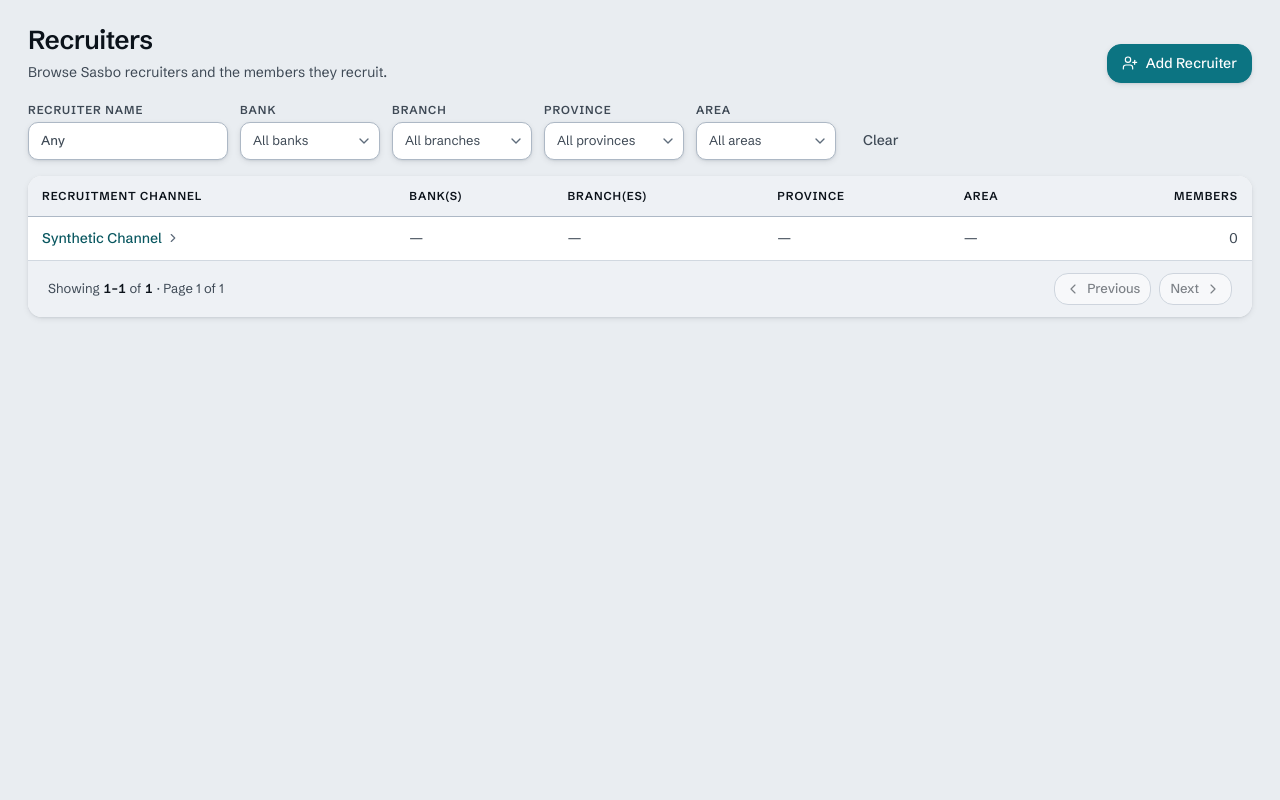
Test: Recruiters › ③ a count of zero › reads 0 -- and a field with nothing in it still reads as a dash
The image size is (1280, 800).
Click the button with aria-label "Synthetic Channel — show the members recruited" at {"x": 111, "y": 238}, box [42,228,180,248]
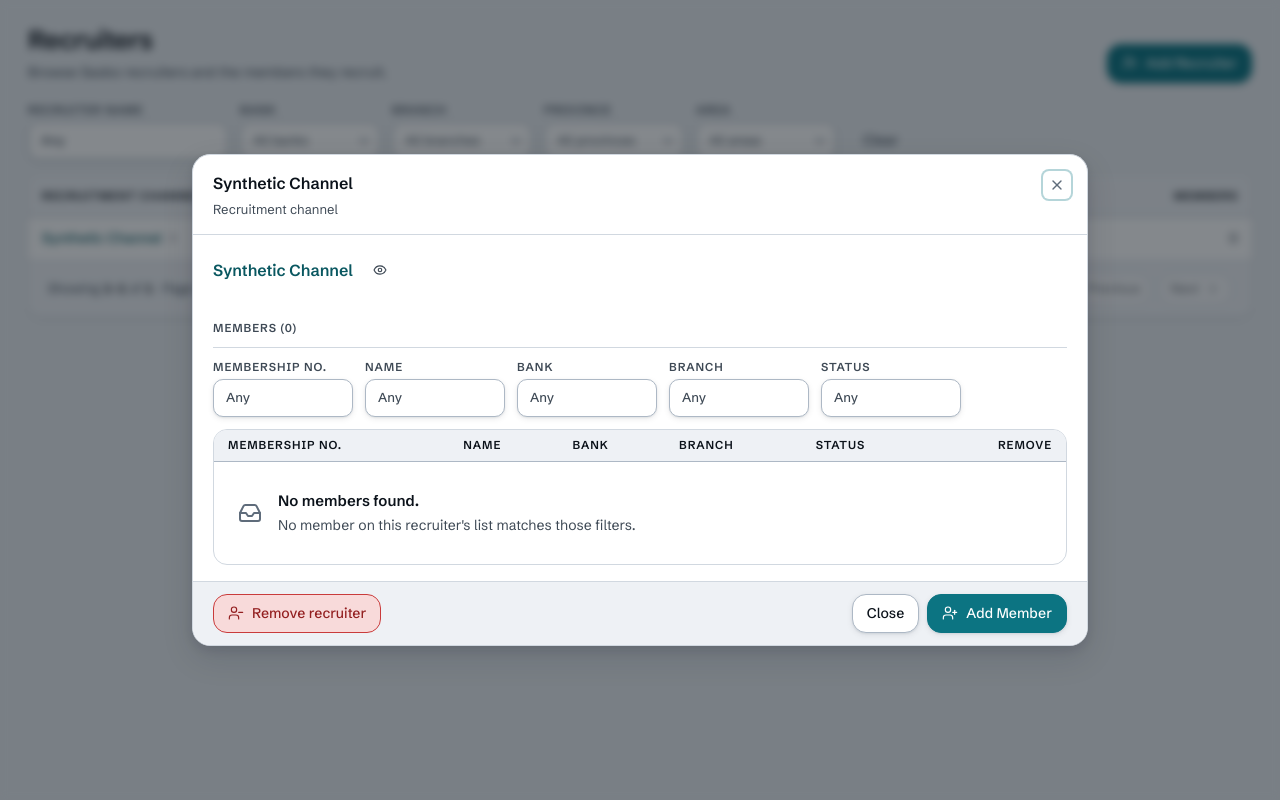
Click the button named "View recruiter details" at {"x": 380, "y": 270}, box [361,252,399,290]
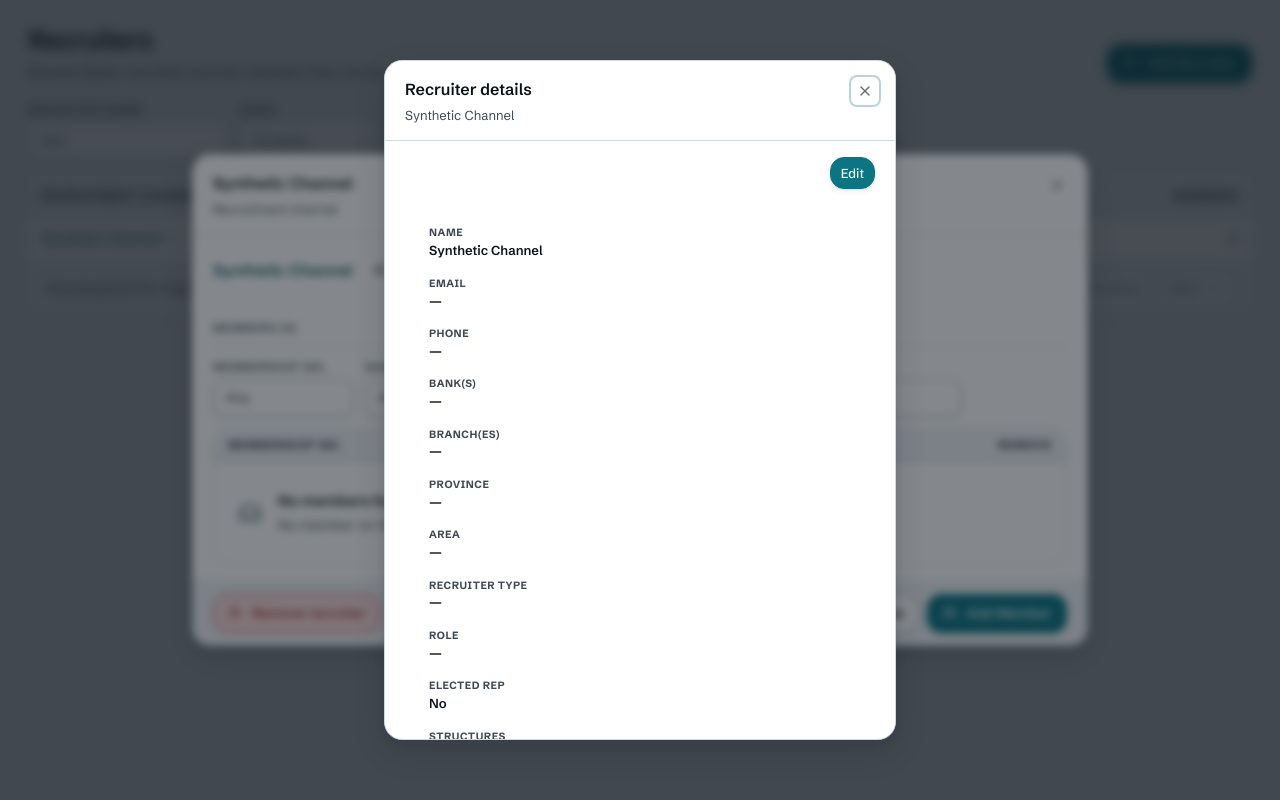
Expected: the text "—" below "Phone" is shown, [429,343,442,359]
